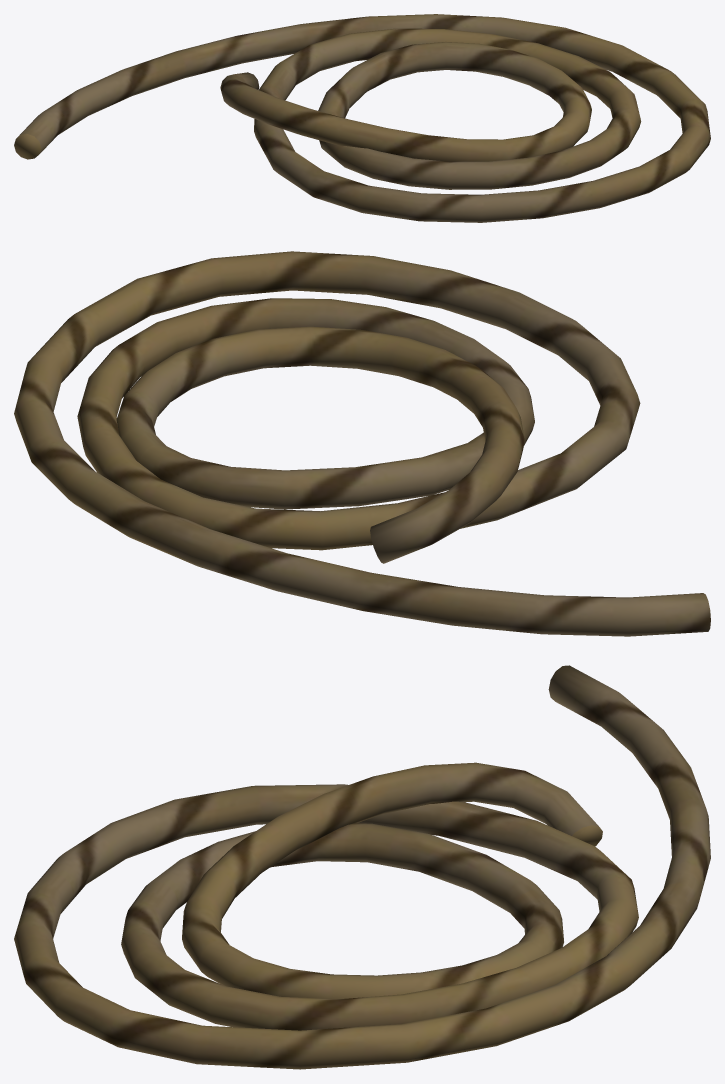
File: Rope_3.gltf
3 renders of one model, top to bottom at view 1: azimuth 30°, elevation 25°; view 2: azimuth 150°, elevation 25°; view 3: azimuth 270°, elevation 25°, orthographic. The views are drawn at different scales.
Parts seen in each view (by area): view 1: Rope_3; view 2: Rope_3; view 3: Rope_3.
Part boxes in pixels (x1,y1,x2,y2): Rope_3: [14, 14, 710, 222]; Rope_3: [14, 251, 710, 636]; Rope_3: [14, 665, 710, 1069].
Bounding box in the file's own units: 1.23 × 0.1018 × 0.9508.
Materials: 1 (1 with a texture image).
